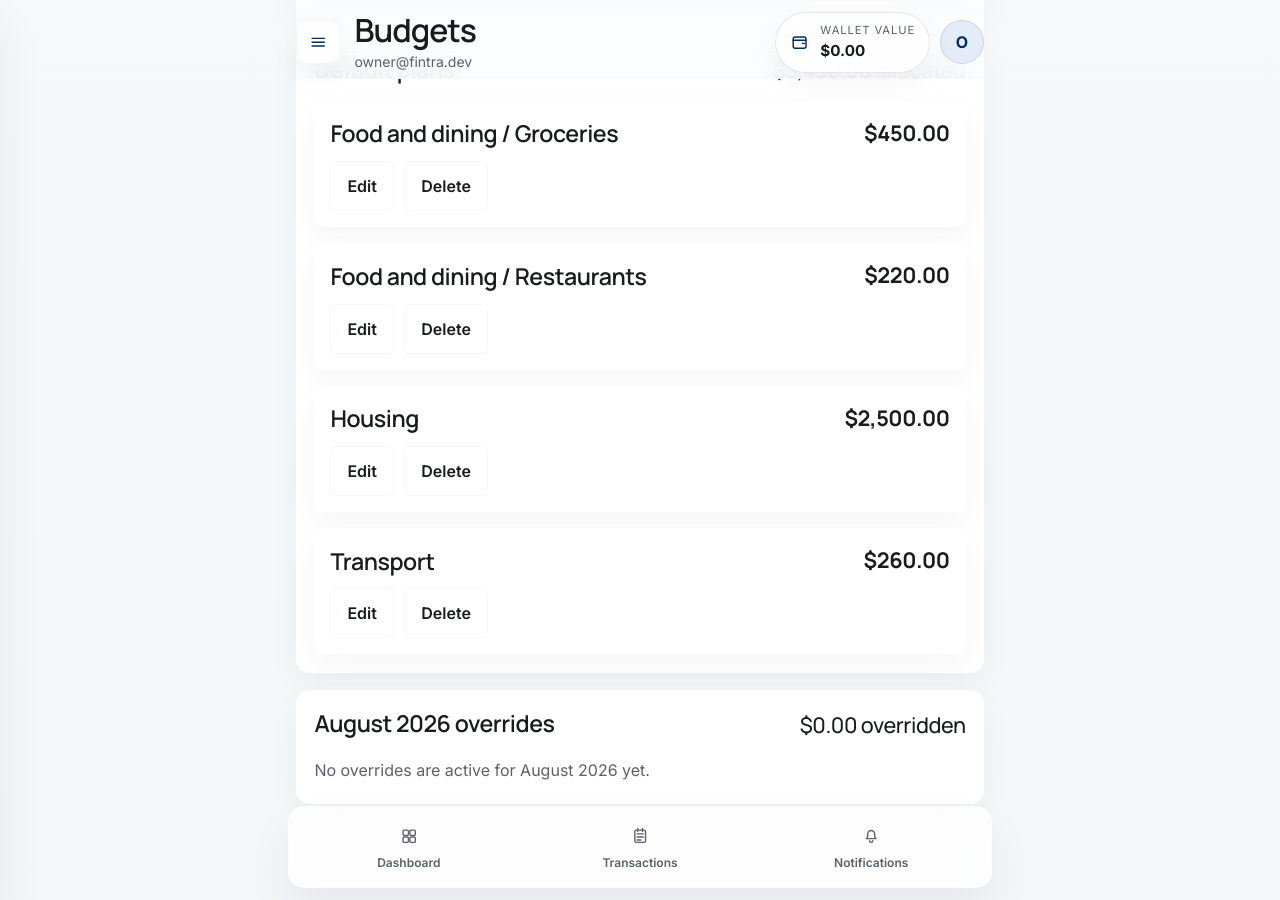
Test: BudgetsPage › edits an existing budget inline from the budget card amount area
This screenshot has width=1280, height=900.
(page scrolled)
Click the button with aria-label "edit budget housing".
click(362, 471)  # box left=330, top=446, right=394, bottom=496
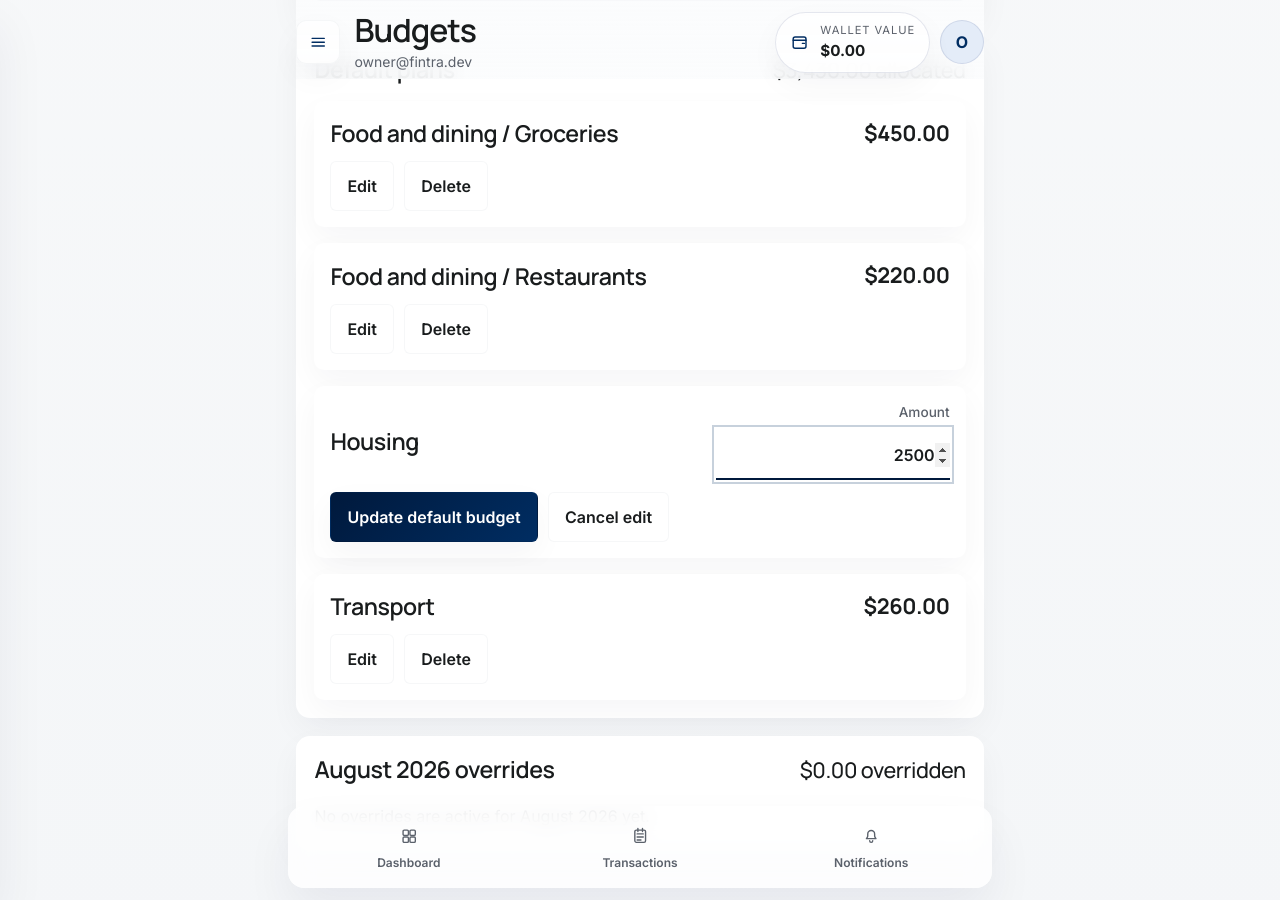
Replace the text in the number field labelled "Amount" with "2750" at (833, 454), box left=716, top=429, right=950, bottom=480
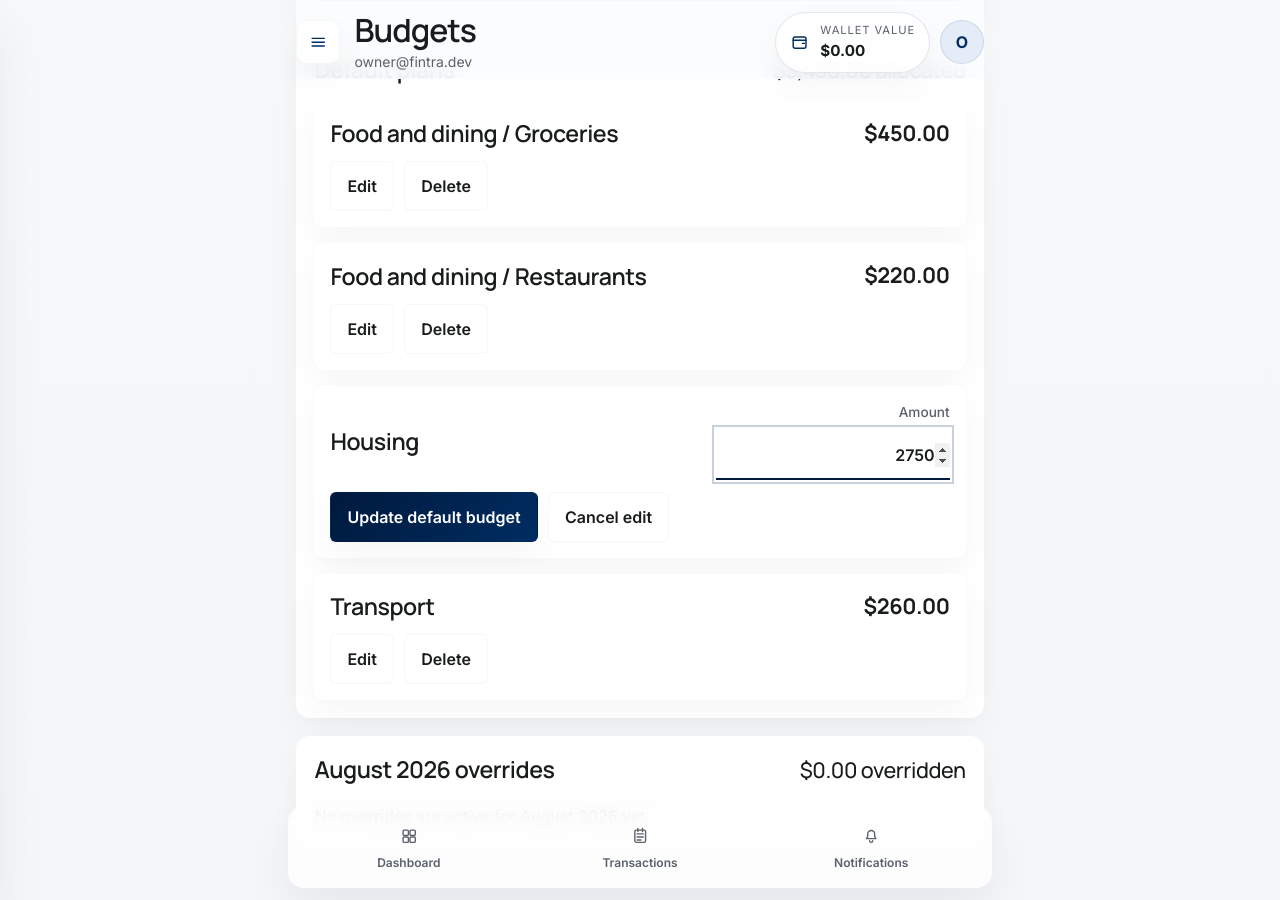
Click the button "Update default budget".
click(434, 517)  # box left=330, top=492, right=538, bottom=542
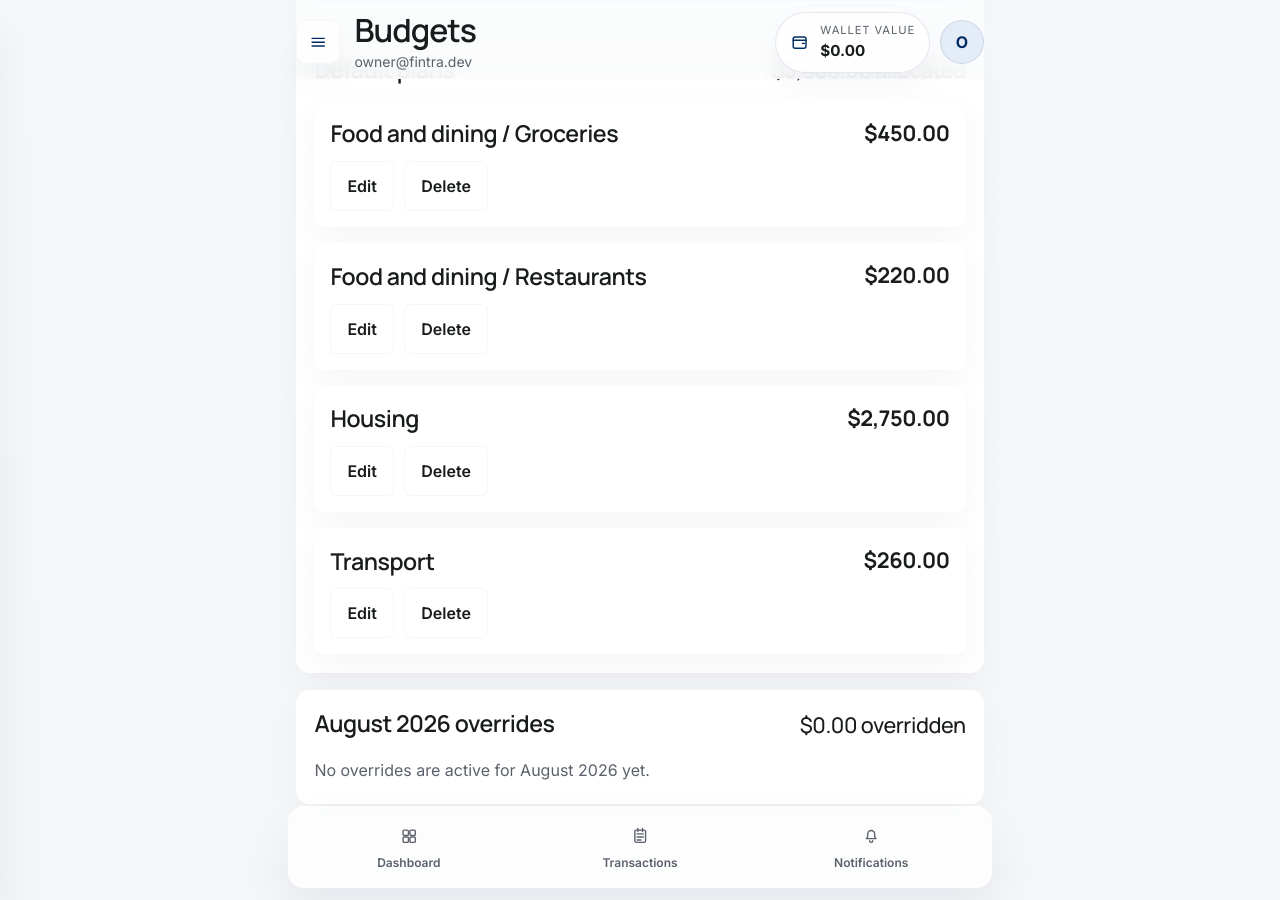
Expected: the text "$2,750.00" is shown, left=847, top=402, right=950, bottom=434
